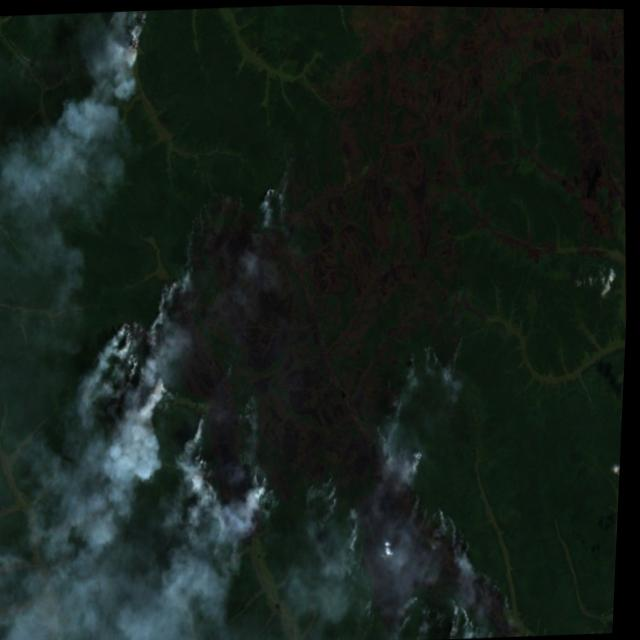fire: (294, 323, 521, 640), (97, 259, 194, 418), (188, 400, 282, 551), (96, 9, 157, 117), (252, 179, 299, 235)
